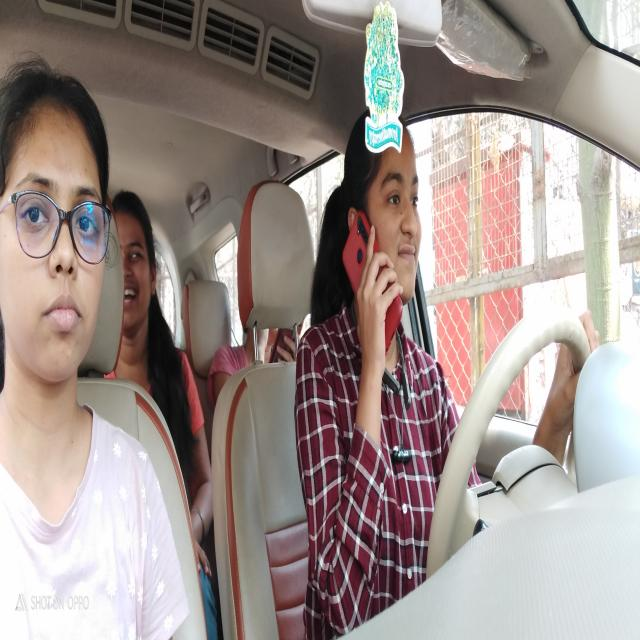mobile: (339, 213, 404, 349)
person: (0, 52, 129, 422), (359, 99, 435, 352), (110, 167, 170, 356)
